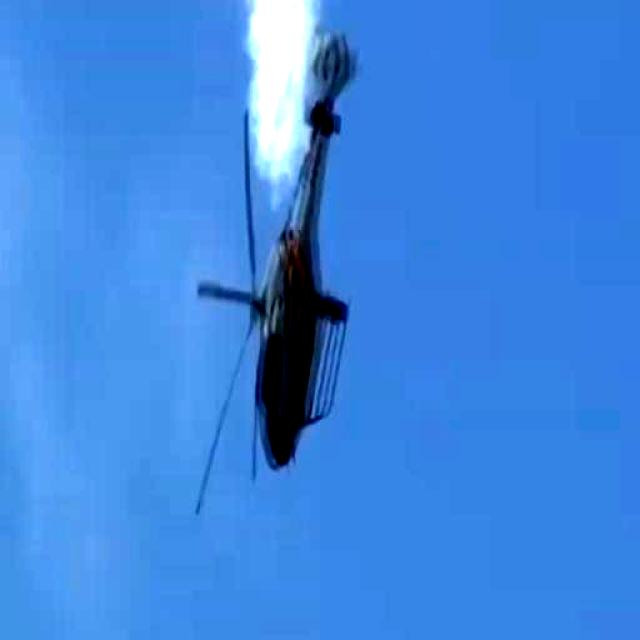drone: (210, 51, 380, 528)
